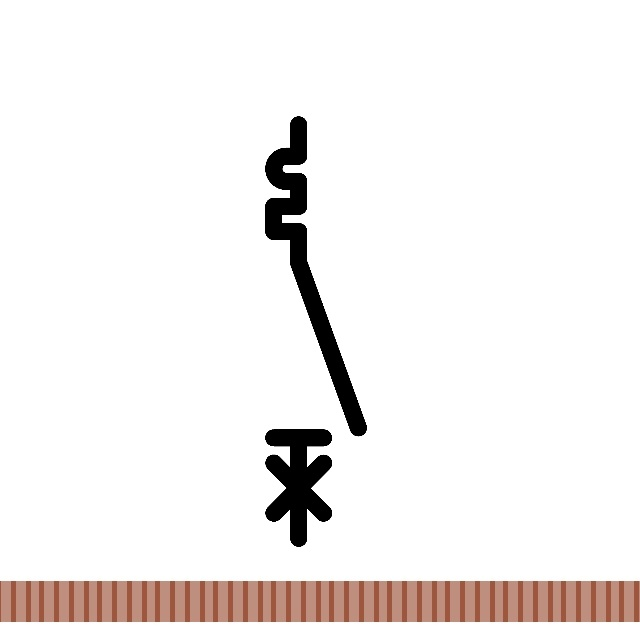interruptor_termomagnetico: (263, 114, 369, 549)
